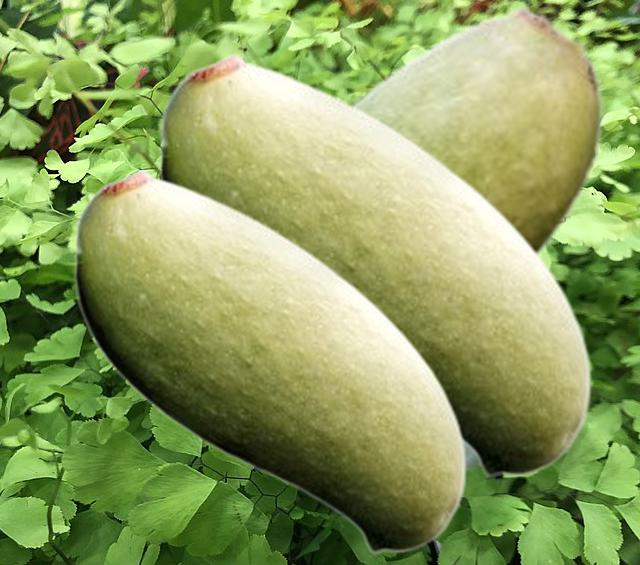green_mango: (158, 51, 591, 478), (73, 167, 466, 554), (351, 4, 603, 257)
